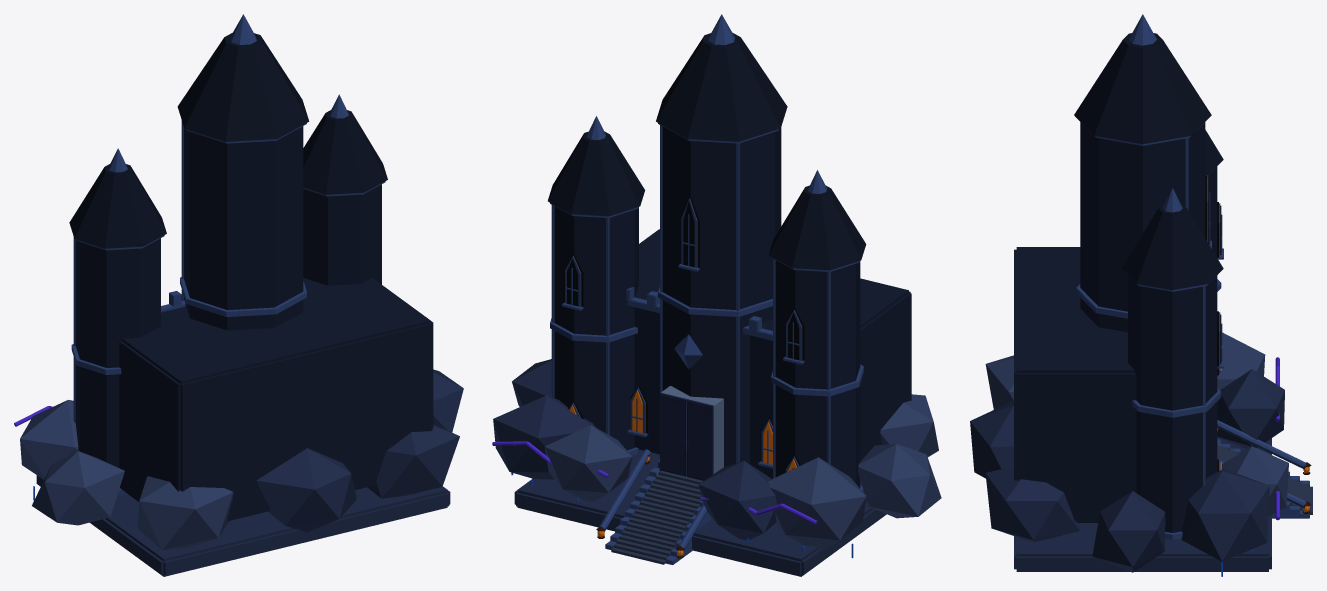
Rendered from thundercloud-fortress-visual.obj.
3 renders of one model, left to right at view 1: azimuth 30°, elevation 25°; view 2: azimuth 150°, elevation 25°; view 3: azimuth 270°, elevation 25°, orthographic.
Parts seen in each view (by area): view 1: CurtainWalls, CentralTower, CloudFoundation, SideTower13, SideTower-13, Foundation_01; view 2: CentralTower, CloudFoundation, SideTower13, SideTower-13, CurtainWalls, Foundation_01, HouseDoorLeaf_L_Panel, HouseDoorLeaf_R_Panel, HallWindows, Approach, StairRails, WalkPassageRight; view 3: CloudFoundation, CurtainWalls, CentralTower, SideTower-13, Foundation_01, SideTower13, StairRails, Approach.
Part boxes in pixels (box(x1,y1,x2,y2)): CurtainWalls: box(119, 278, 433, 521); CentralTower: box(177, 14, 309, 330); CloudFoundation: box(20, 369, 463, 549); SideTower13: box(69, 148, 166, 495); SideTower-13: box(303, 94, 387, 285); Foundation_01: box(36, 475, 450, 576); CentralTower: box(656, 14, 787, 467); CloudFoundation: box(493, 359, 941, 549); SideTower13: box(769, 170, 866, 492); SideTower-13: box(548, 116, 645, 455); CurtainWalls: box(626, 229, 911, 479); Foundation_01: box(514, 449, 886, 576); HouseDoorLeaf_L_Panel: box(662, 398, 684, 474); HouseDoorLeaf_R_Panel: box(688, 404, 710, 479); HallWindows: box(627, 385, 772, 468); Approach: box(605, 467, 712, 564); StairRails: box(599, 449, 706, 550); WalkPassageRight: box(713, 400, 723, 473); CloudFoundation: box(970, 332, 1288, 572); CurtainWalls: box(1014, 247, 1136, 522); CentralTower: box(1074, 14, 1211, 332); SideTower-13: box(1121, 188, 1223, 539); Foundation_01: box(1014, 437, 1271, 571); SideTower13: box(1205, 130, 1223, 375); StairRails: box(1217, 420, 1306, 508); Approach: box(1217, 439, 1309, 518).
Bounding box in the file's own units: 62.1 × 69.46 × 44.24.
